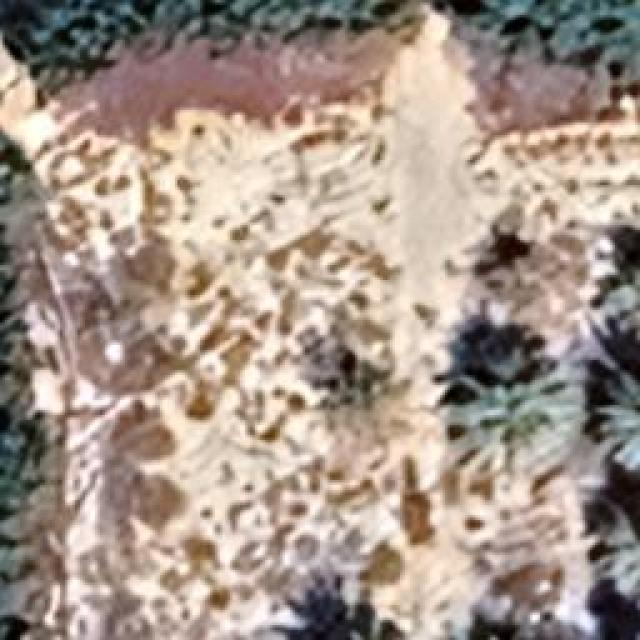PalmTree: (90, 113, 360, 400), (102, 99, 521, 275), (440, 345, 575, 500), (582, 225, 640, 343), (275, 590, 410, 640), (472, 590, 576, 640), (592, 372, 638, 472), (590, 508, 638, 602), (0, 400, 51, 481), (423, 617, 565, 640), (0, 140, 34, 228)
